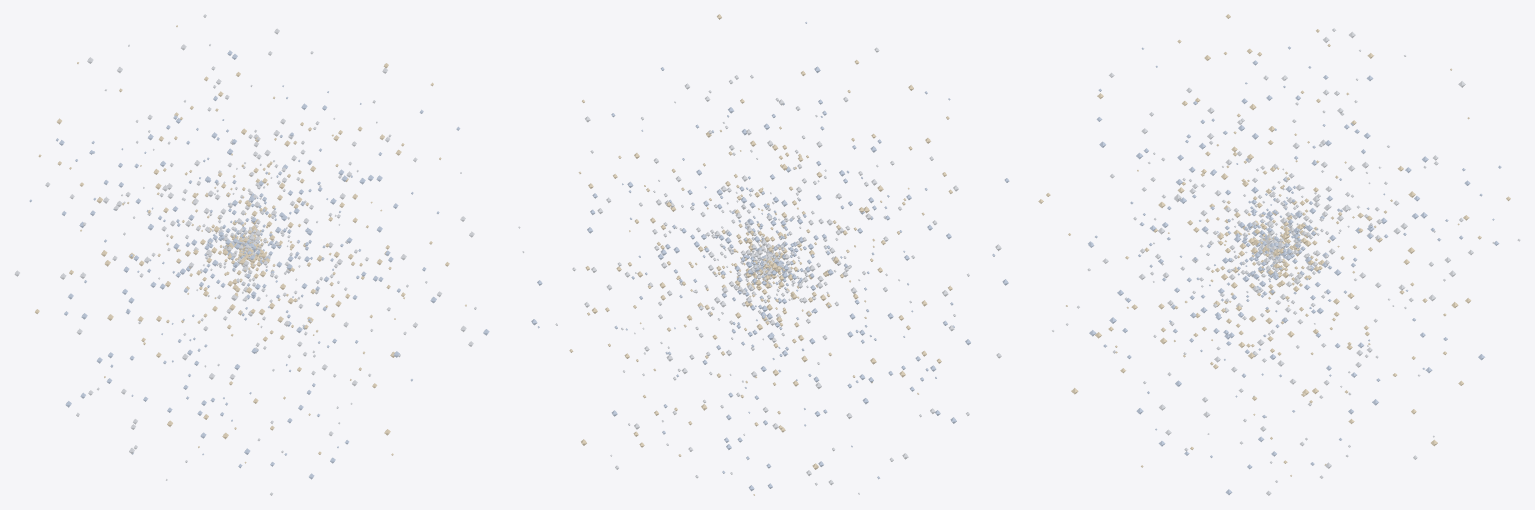
The picture shows the model from 3 angles, left to right: view 1: azimuth 30°, elevation 25°; view 2: azimuth 150°, elevation 25°; view 3: azimuth 270°, elevation 25°; orthographic projection.
Size of the model in its own units: 4.79 by 4.93 by 4.9.
